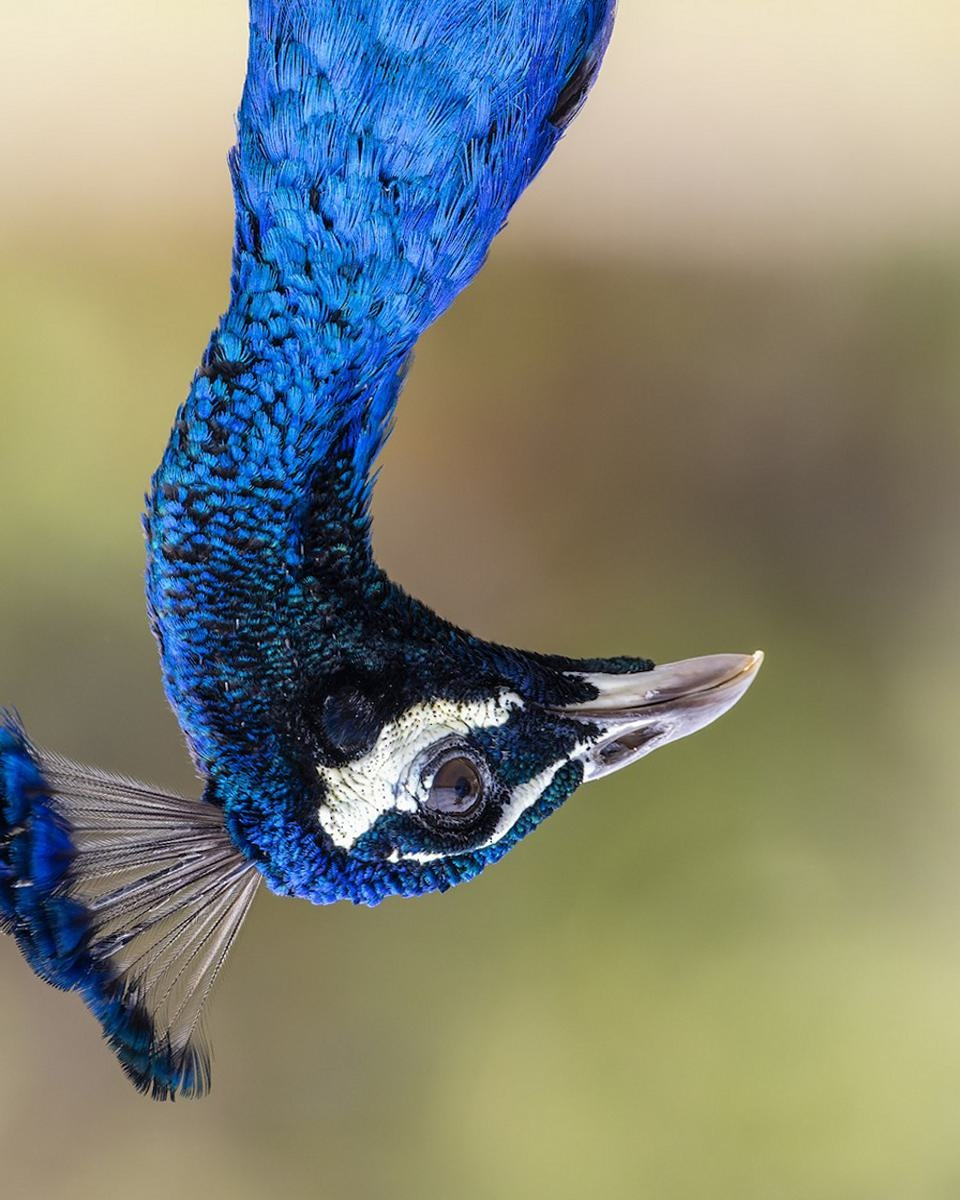peacock: (1, 1, 818, 1091)
